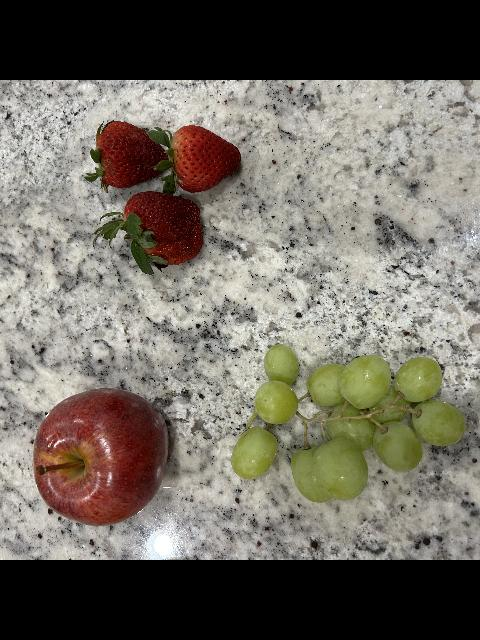Apples: (32, 388, 168, 526)
Grapes: (228, 345, 464, 505)
Strawberries: (92, 192, 202, 274), (84, 121, 170, 189), (159, 125, 241, 193)
